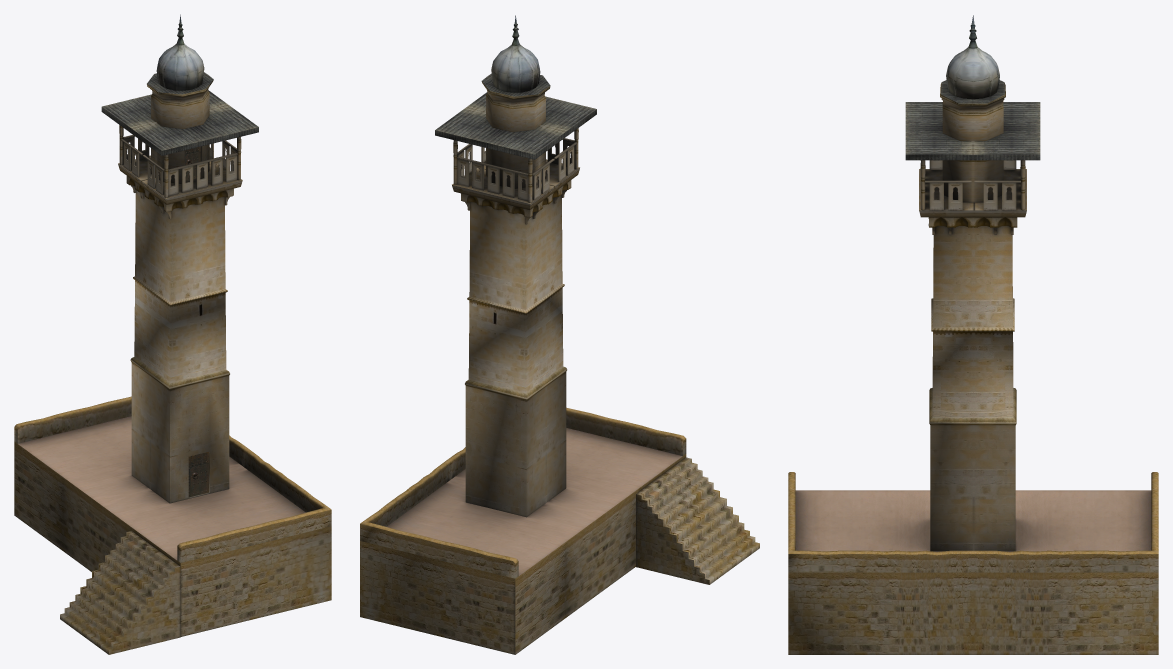
Rendered from building8.fbx.
3 views of the same model, side by side, from view 1: azimuth 30°, elevation 25°; view 2: azimuth 150°, elevation 25°; view 3: azimuth 270°, elevation 25° (orthographic). The views are drawn at different scales.
Parts seen in each view (by area): view 1: U3DMesh; view 2: U3DMesh; view 3: U3DMesh.
Part boxes in pixels (x1,y1,x2,y2): U3DMesh: [14, 14, 331, 654]; U3DMesh: [360, 15, 759, 654]; U3DMesh: [788, 15, 1158, 654].
Size of the model in its own units: 315 by 732 by 406.
